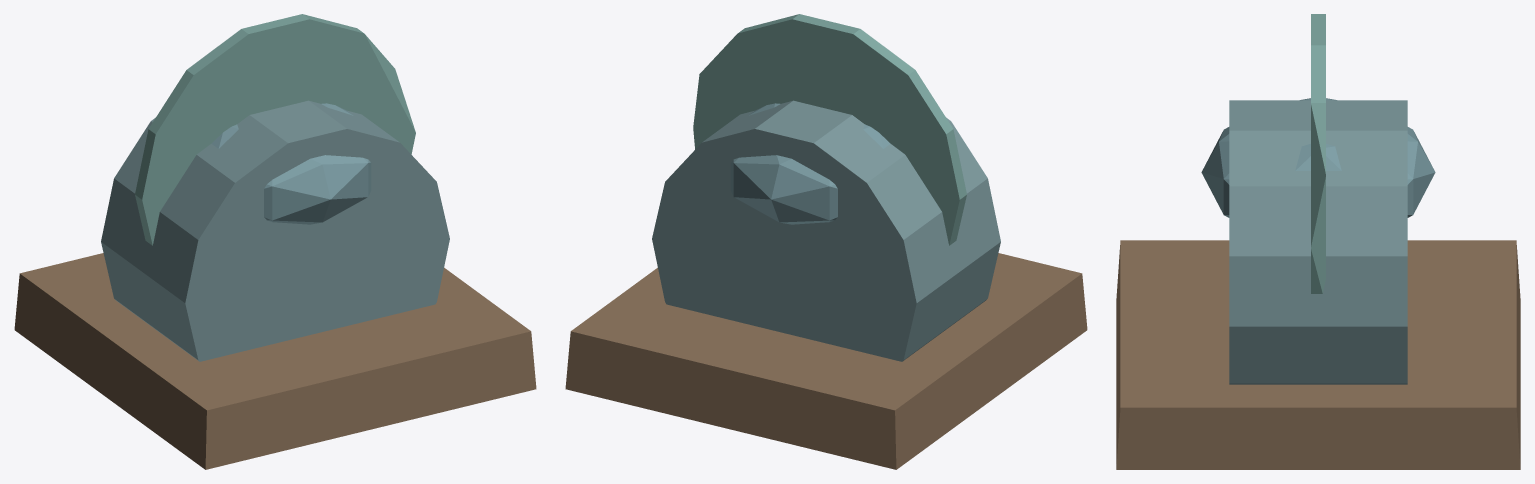
File: station_vat_optimized60.glb
The picture shows the model from 3 angles, left to right: view 1: azimuth 30°, elevation 25°; view 2: azimuth 150°, elevation 25°; view 3: azimuth 270°, elevation 25°; orthographic projection. The views are drawn at different scales.
Parts seen in each view (by area): view 1: part_1, part_0, part_2, part_3; view 2: part_1, part_0, part_2, part_3; view 3: part_0, part_1, part_2, part_3.
Boxes of the visible parts, bbox=[...] form: part_1: bbox=[101, 100, 449, 361]; part_0: bbox=[14, 253, 536, 469]; part_2: bbox=[135, 14, 415, 245]; part_3: bbox=[211, 103, 371, 224]; part_1: bbox=[652, 100, 1000, 361]; part_0: bbox=[565, 253, 1087, 469]; part_2: bbox=[693, 14, 966, 245]; part_3: bbox=[730, 103, 890, 224]; part_0: bbox=[1116, 240, 1520, 469]; part_1: bbox=[1229, 100, 1407, 384]; part_2: bbox=[1311, 14, 1325, 293]; part_3: bbox=[1201, 98, 1435, 217].
Bounding box in the file's own units: 1.45 × 1.47 × 1.45.
